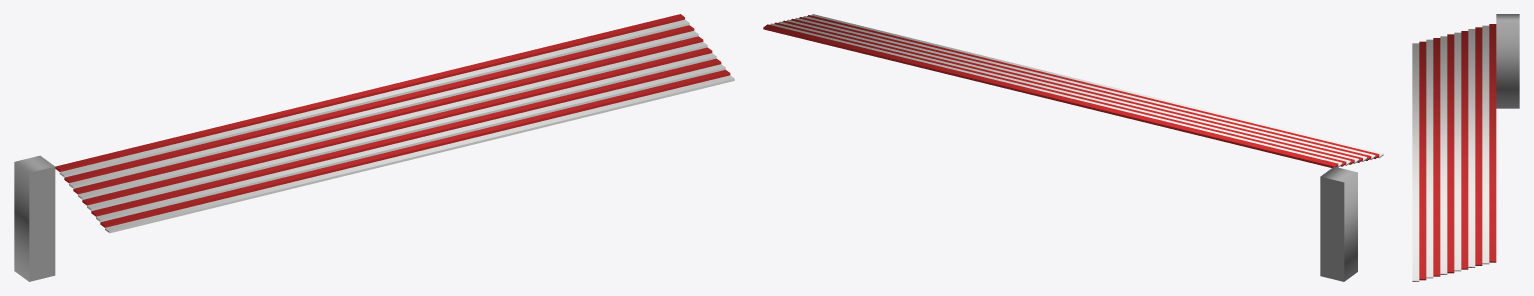
3 renders of one model, left to right at view 1: azimuth 30°, elevation 25°; view 2: azimuth 150°, elevation 25°; view 3: azimuth 270°, elevation 25°, orthographic. The views are drawn at different scales.
Parts seen in each view (by area): view 1: XK3_r00, XK3_b400, XK3_b700, XK3_b850, XK3_b1000, XK3_b325, XK3_b1075, XK3_b550, XK3_b925, XK3_b250, XK3_b625, XK3_b775 (+1 smaller); view 2: XK3_r00, XK3_b250, XK3_b325, XK3_b925, XK3_b1075, XK3_b400, XK3_b475, XK3_b625, XK3_b1000, XK3_b550, XK3_b775, XK3_b850 (+1 smaller); view 3: XK3_r00, XK3_b700, XK3_b1000, XK3_b325, XK3_b625, XK3_b925, XK3_b1075, XK3_b250, XK3_b400, XK3_b475, XK3_b550, XK3_b775 (+1 smaller).
Part boxes in pixels (<box>): XK3_r00: <box>14,155,55,281</box>; XK3_b400: <box>64,25,694,182</box>; XK3_b700: <box>82,47,712,205</box>; XK3_b850: <box>91,58,721,216</box>; XK3_b1000: <box>100,69,730,227</box>; XK3_b325: <box>59,19,689,177</box>; XK3_b1075: <box>105,75,734,233</box>; XK3_b550: <box>73,36,703,194</box>; XK3_b925: <box>96,64,725,222</box>; XK3_b250: <box>55,14,684,171</box>; XK3_b625: <box>78,42,707,199</box>; XK3_b775: <box>87,53,716,210</box>; XK3_r00: <box>1320,166,1357,281</box>; XK3_b250: <box>763,24,1338,167</box>; XK3_b325: <box>770,23,1342,167</box>; XK3_b925: <box>803,16,1375,159</box>; XK3_b1075: <box>811,14,1383,158</box>; XK3_b400: <box>774,22,1346,166</box>; XK3_b475: <box>778,21,1350,165</box>; XK3_b625: <box>786,19,1358,163</box>; XK3_b1000: <box>807,15,1379,158</box>; XK3_b550: <box>782,20,1354,164</box>; XK3_b775: <box>794,18,1366,161</box>; XK3_b850: <box>799,17,1371,160</box>; XK3_r00: <box>1496,14,1519,108</box>; XK3_b700: <box>1447,34,1454,273</box>; XK3_b1000: <box>1419,41,1426,280</box>; XK3_b325: <box>1482,25,1489,264</box>; XK3_b625: <box>1454,32,1461,271</box>; XK3_b925: <box>1426,39,1433,278</box>; XK3_b1075: <box>1412,43,1419,281</box>; XK3_b250: <box>1489,24,1496,262</box>; XK3_b400: <box>1475,27,1482,265</box>; XK3_b475: <box>1468,29,1475,267</box>; XK3_b550: <box>1461,31,1468,269</box>; XK3_b775: <box>1440,36,1447,274</box>.
Size of the model in its own units: 2.5 by 0.4 by 0.46.
